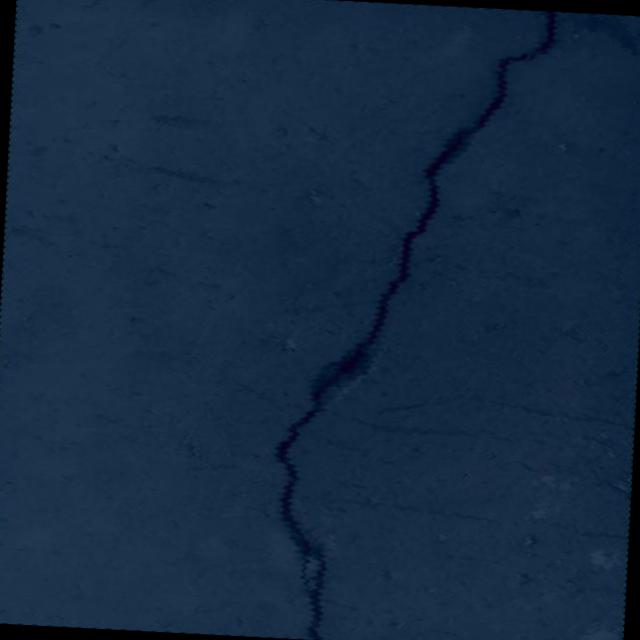crack: (265, 0, 560, 640)
